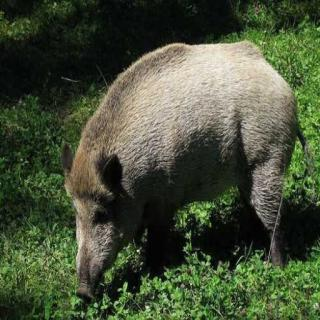Pig: (74, 23, 302, 300)
